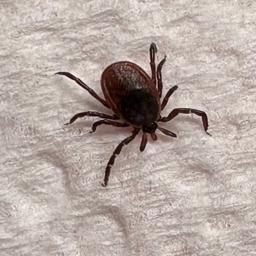Ixodes scapularis: (55, 43, 212, 187)
